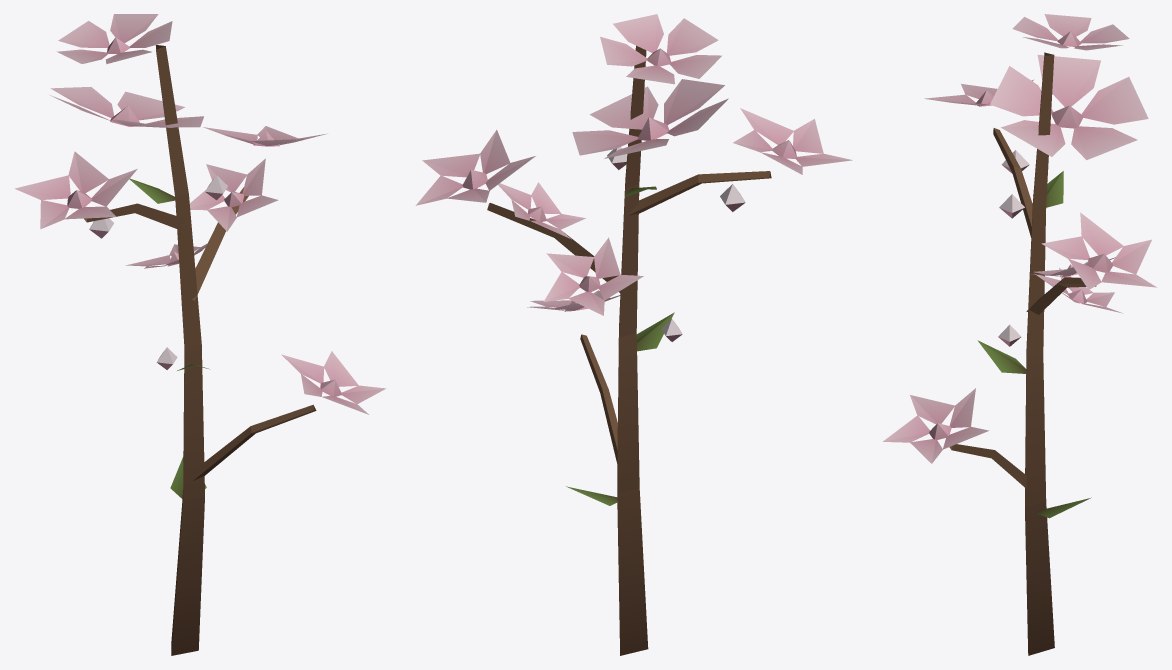
File: flower-cherry.glb
The picture shows the model from 3 angles, left to right: view 1: azimuth 30°, elevation 25°; view 2: azimuth 150°, elevation 25°; view 3: azimuth 270°, elevation 25°; orthographic projection. The views are drawn at different scales.
Parts seen in each view (by area): view 1: cherry; view 2: cherry; view 3: cherry.
Part boxes in pixels (x1,y1,x2,y2): cherry: (15,14,386,655); cherry: (415,14,852,655); cherry: (883,14,1156,655).
Size of the model in its own units: 6.9 by 11.5 by 4.75.
